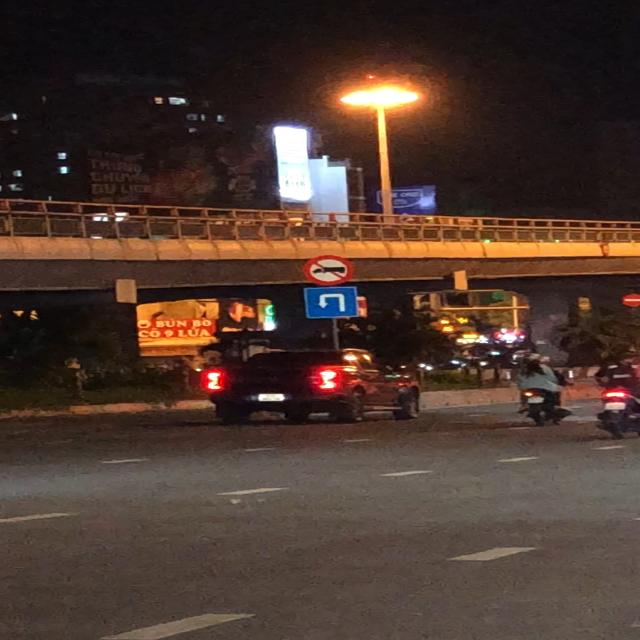Bien bao cam xe so-mi ro-mooc: (302, 254, 354, 287)
